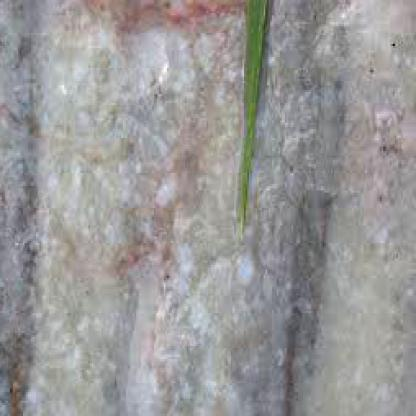Metamorphic_Quartize: (9, 9, 414, 414)
